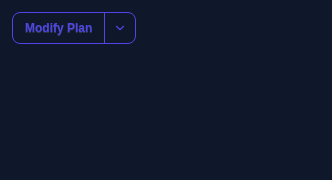
End jumps to the last enabled option, and Tab closes the menu without refocusing the arrow
Click the button named "More Modify Plan options" at (120, 28), box [104, 12, 136, 44]
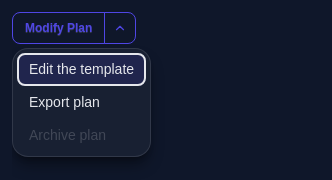
Press End
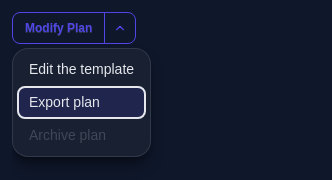
Press Tab
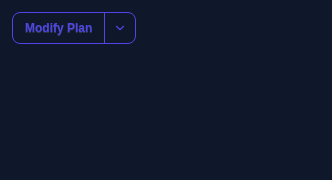
Expected: the menu is gone
